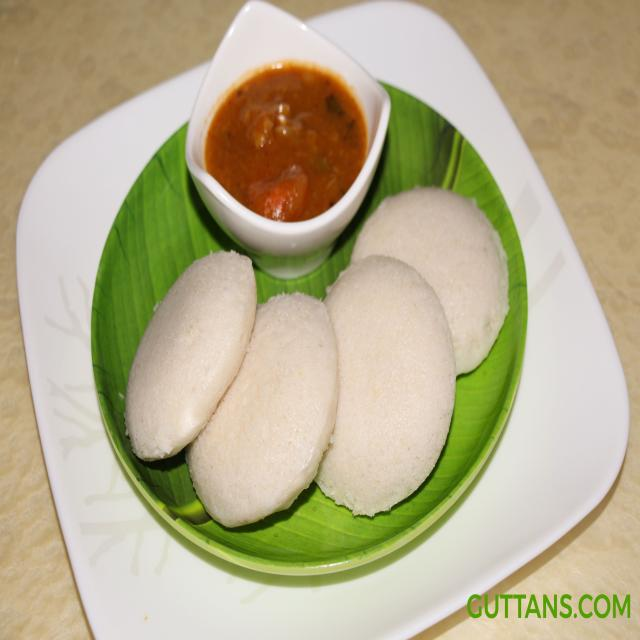idli: (183, 286, 341, 540), (306, 271, 460, 524), (124, 244, 250, 487), (351, 193, 508, 375)
